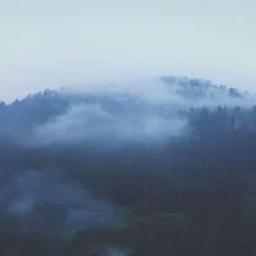Low smoke: (0, 62, 256, 252)
